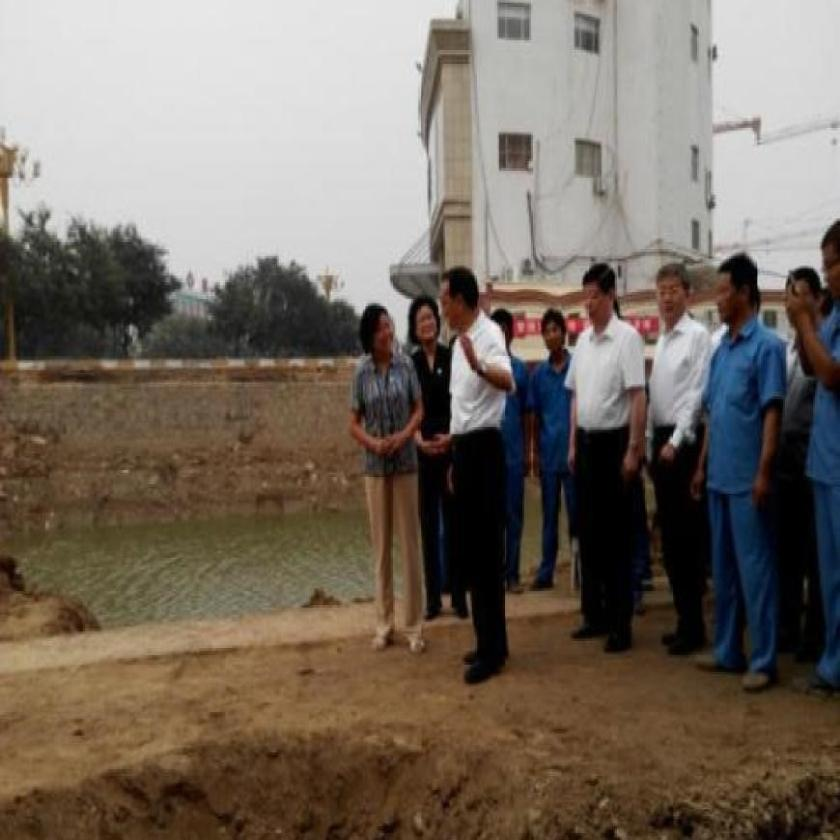Sin_casco: (714, 244, 761, 328), (437, 260, 481, 339), (653, 263, 696, 335), (356, 300, 403, 360), (581, 254, 618, 330), (413, 284, 441, 352), (535, 304, 568, 358)
